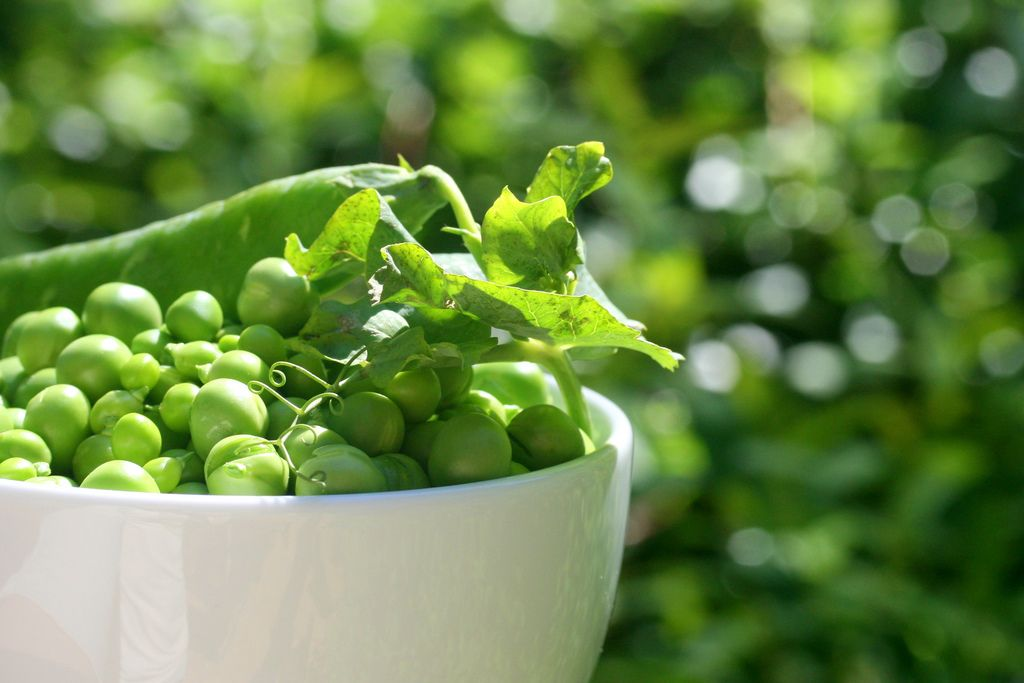boiled peas: (10, 269, 620, 522)
